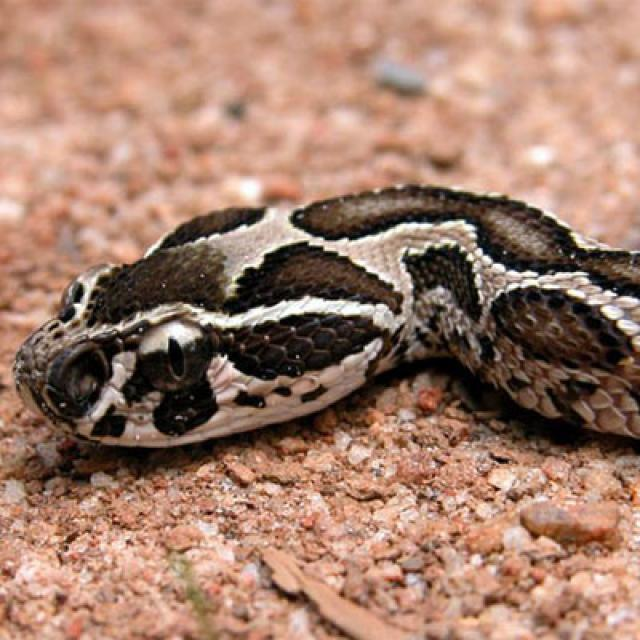Snake: (9, 179, 638, 461)
